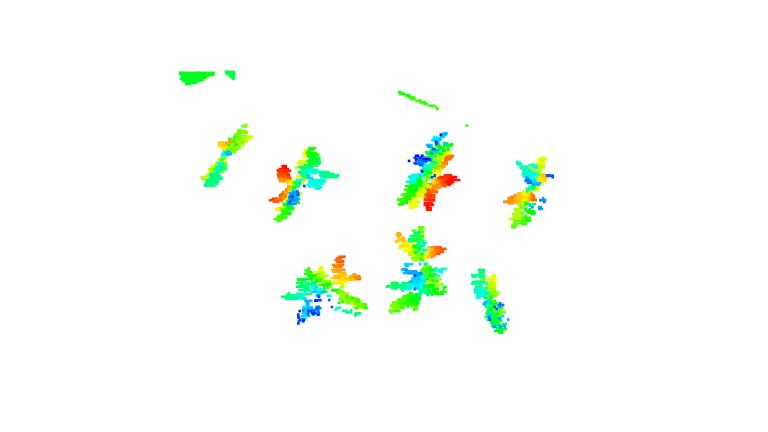chickpea: (280, 255, 371, 326), (384, 223, 450, 316), (394, 127, 460, 213), (270, 146, 338, 227), (501, 153, 550, 228), (200, 122, 253, 190), (469, 265, 511, 335)
